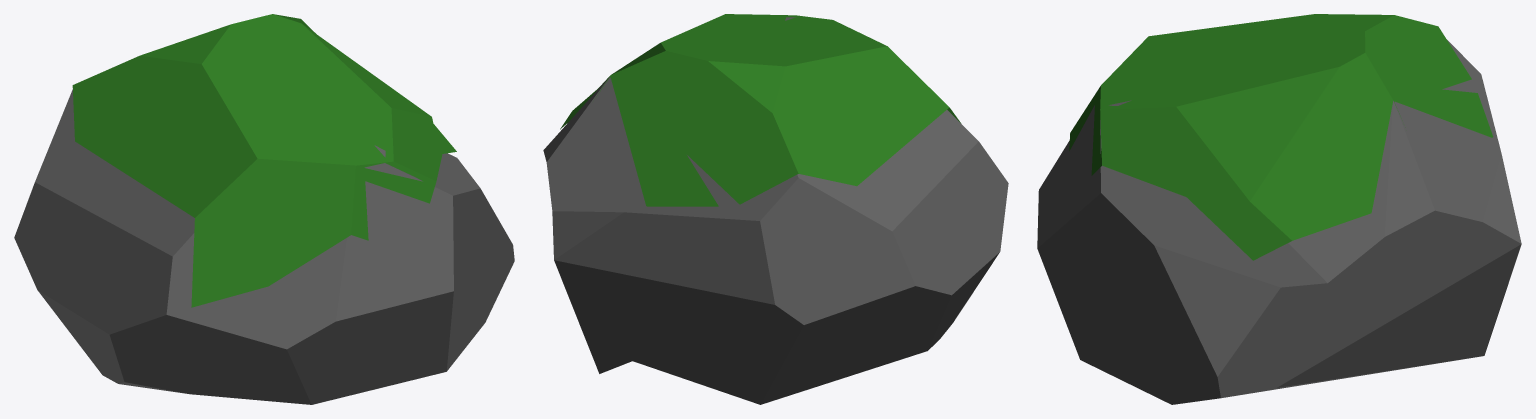
File: MossyRock1.fbx
3 renders of one model, left to right at view 1: azimuth 30°, elevation 25°; view 2: azimuth 150°, elevation 25°; view 3: azimuth 270°, elevation 25°, orthographic. The views are drawn at different scales.
Parts seen in each view (by area): view 1: Sphere, Sphere.001; view 2: Sphere, Sphere.001; view 3: Sphere, Sphere.001.
Part boxes in pixels (left/top/right/bottom): Sphere: left=14, top=89, right=514, bottom=404; Sphere.001: left=72, top=14, right=456, bottom=307; Sphere: left=543, top=17, right=1008, bottom=404; Sphere.001: left=560, top=14, right=961, bottom=206; Sphere: left=1037, top=40, right=1521, bottom=404; Sphere.001: left=1069, top=14, right=1493, bottom=260.
Bounding box in the file's own units: 675 × 418 × 615.
